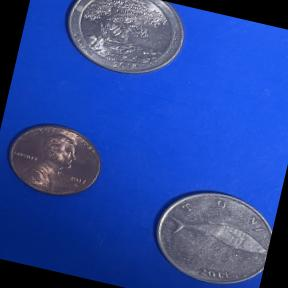Croatia-2Kune-B: (135, 174, 278, 288)
US-1cent-B: (0, 109, 114, 211)
US-25cent-B: (51, 0, 194, 89)
